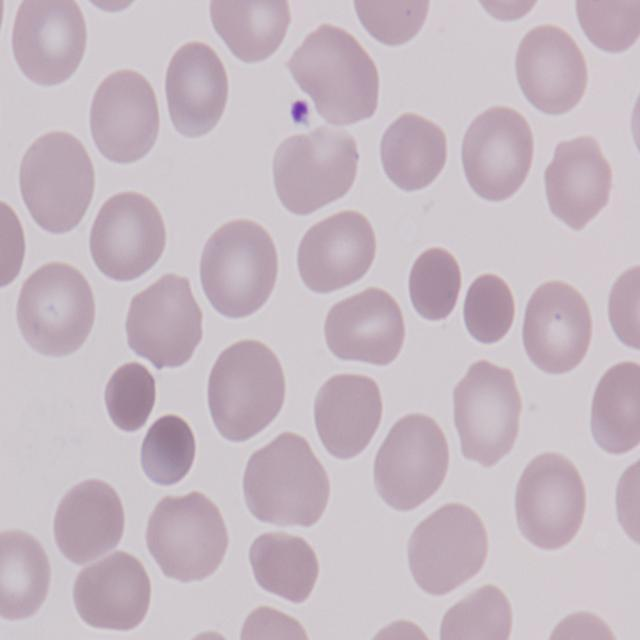RBC: (287, 21, 382, 128), (236, 432, 332, 532), (194, 215, 280, 323), (16, 127, 98, 236), (448, 356, 526, 467), (141, 487, 229, 583), (204, 338, 286, 441), (15, 263, 100, 362), (371, 410, 451, 512), (120, 276, 205, 372), (405, 506, 490, 600), (514, 452, 590, 556), (86, 63, 162, 167), (86, 186, 168, 282), (518, 278, 597, 376), (273, 128, 363, 214), (514, 22, 591, 122), (6, 0, 90, 91), (458, 104, 536, 201), (542, 132, 616, 232), (320, 287, 408, 371), (47, 478, 128, 568), (294, 210, 378, 296), (67, 548, 152, 631), (163, 36, 230, 138), (242, 526, 324, 606), (311, 370, 382, 460), (376, 112, 449, 194), (0, 528, 56, 626), (421, 259, 494, 334), (209, 0, 293, 64), (434, 580, 520, 640), (589, 361, 640, 458), (350, 0, 433, 50), (574, 0, 640, 57), (605, 263, 640, 359), (611, 456, 640, 556), (232, 605, 312, 640), (535, 612, 628, 640), (0, 198, 25, 296), (364, 615, 443, 640), (463, 0, 547, 21), (76, 0, 148, 15)
Spherocyte: (403, 243, 465, 325), (138, 416, 200, 494), (459, 270, 519, 350), (100, 361, 158, 436)
